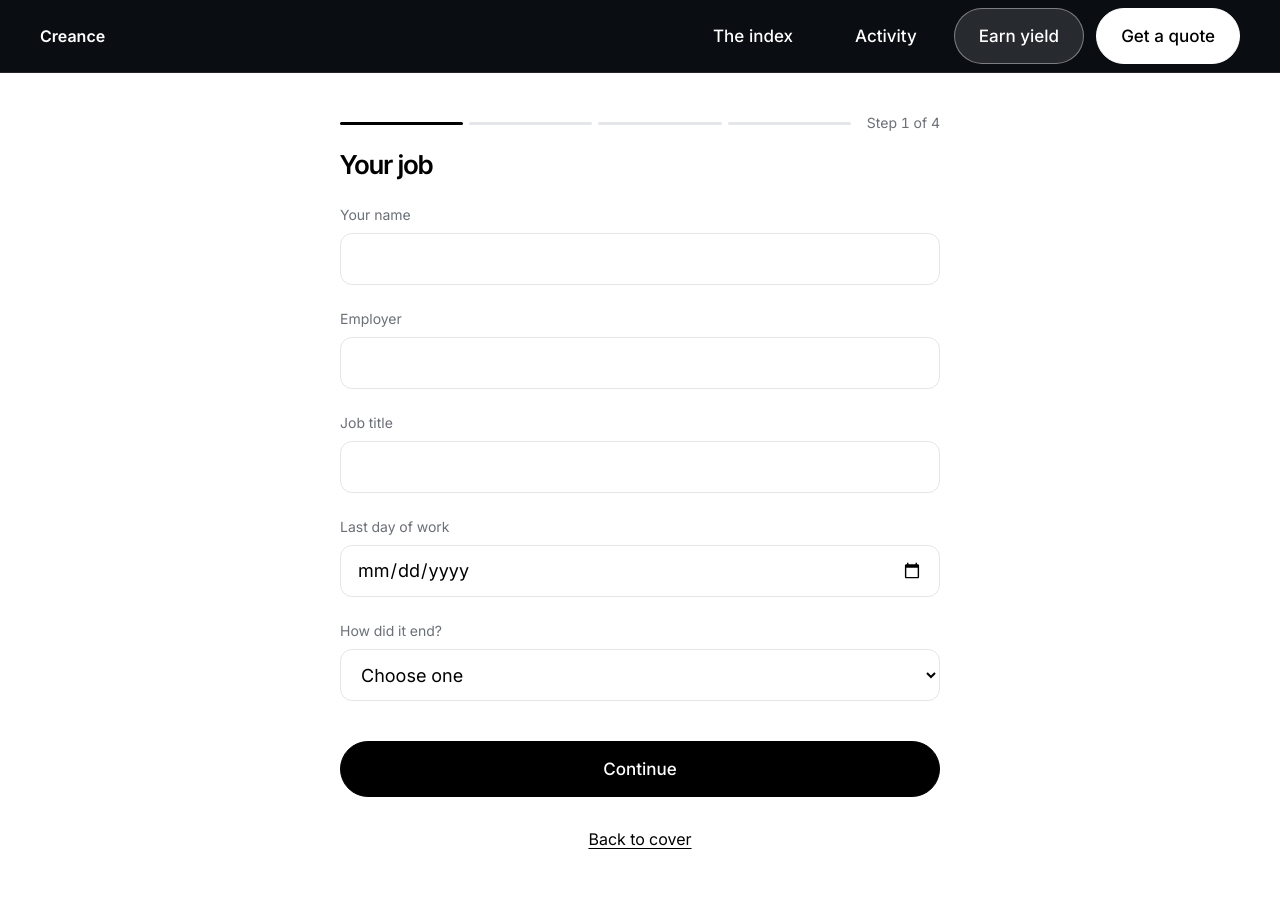
Test case: C2, your job › says the rule under the field when the reason is not covered
Expected: the text "Cover doesn't pay for this" is not shown
Select "I resigned" in the dropdown labelled "How did it end?": (640, 675) [340,649,940,701]
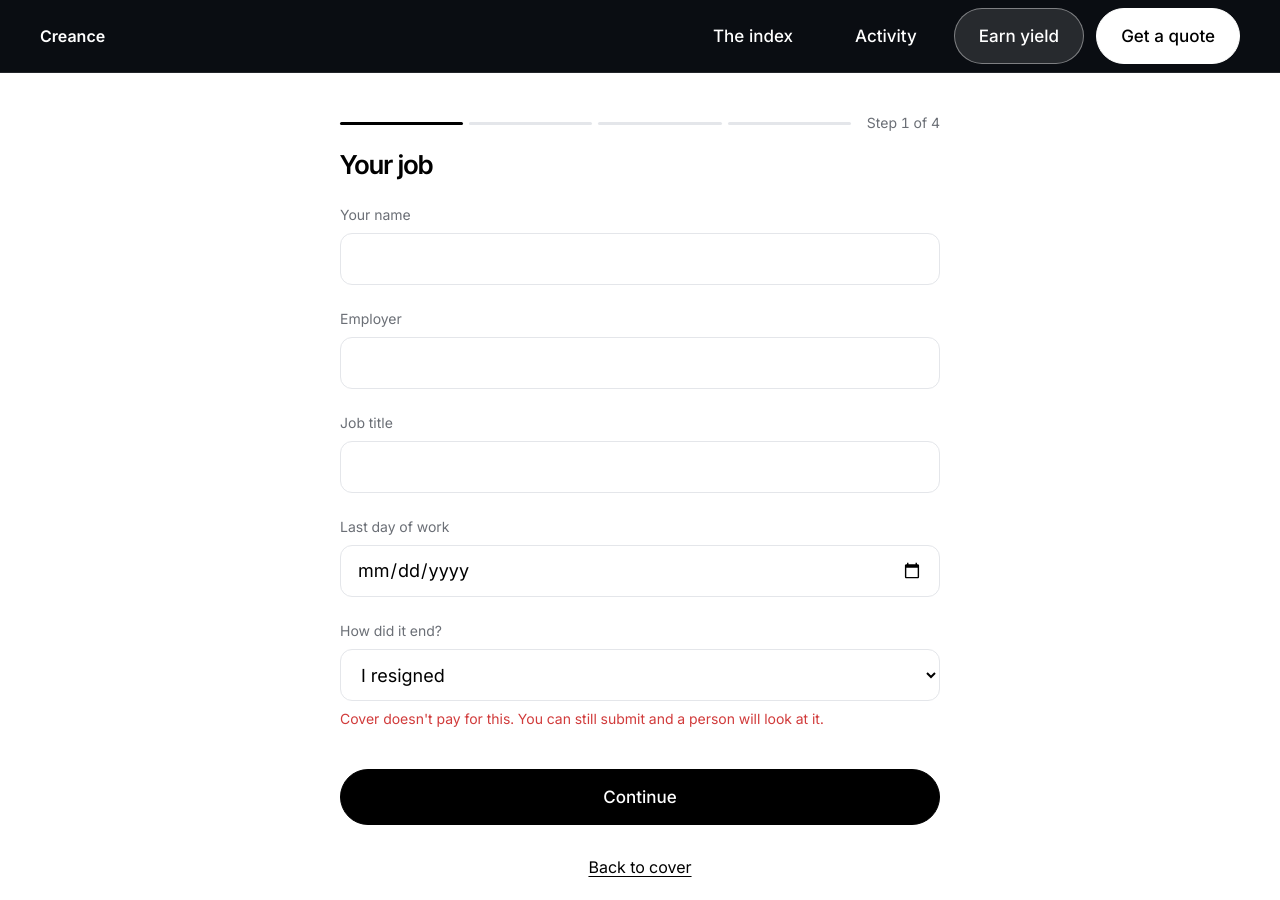
Result: the text "Cover doesn't pay for this. You can still submit and a person will look at it." is shown at [340,710,824,727]
